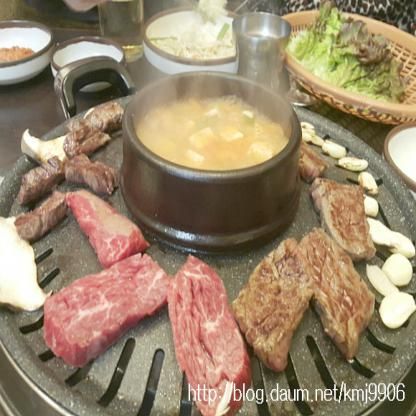Carne: (231, 238, 320, 371), (300, 228, 376, 362), (308, 174, 374, 274), (20, 190, 66, 245), (16, 154, 74, 189), (67, 113, 109, 155), (66, 154, 112, 188), (87, 102, 126, 134)
